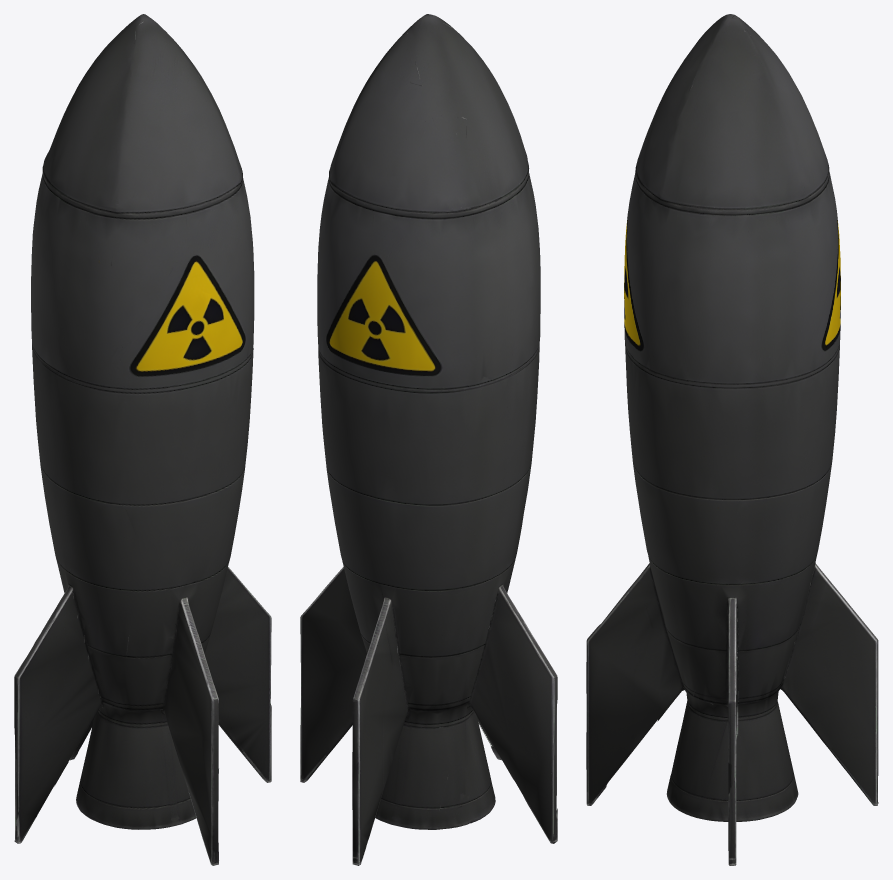
File: Meshy_AI_Radioactive_Rocket_0516162835_texture.fbx
The picture shows the model from 3 angles, left to right: view 1: azimuth 30°, elevation 25°; view 2: azimuth 150°, elevation 25°; view 3: azimuth 270°, elevation 25°; orthographic projection.
Parts seen in each view (by area): view 1: Mesh1.0; view 2: Mesh1.0; view 3: Mesh1.0.
Part boxes in pixels (x1,y1,x2,y2): Mesh1.0: (14, 14, 271, 865); Mesh1.0: (300, 14, 557, 865); Mesh1.0: (586, 14, 878, 865).
Size of the model in its own units: 64.03 by 191 by 64.05.
Materials: 1 (1 with a texture image).
